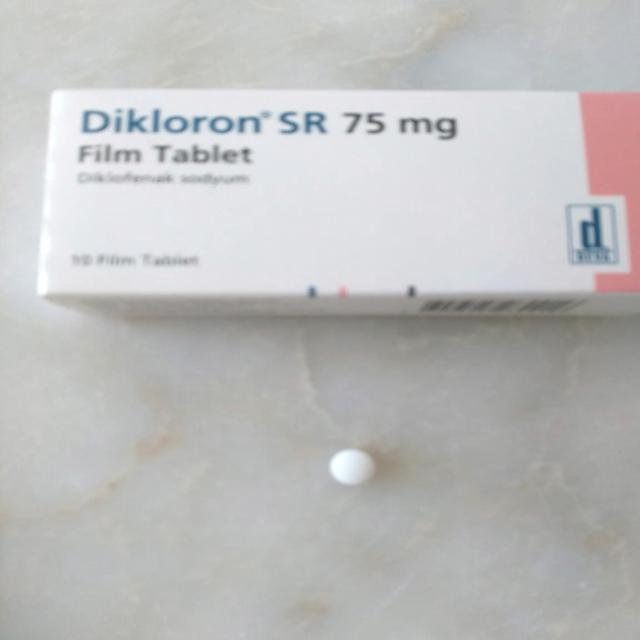pill: (328, 446, 382, 490)
